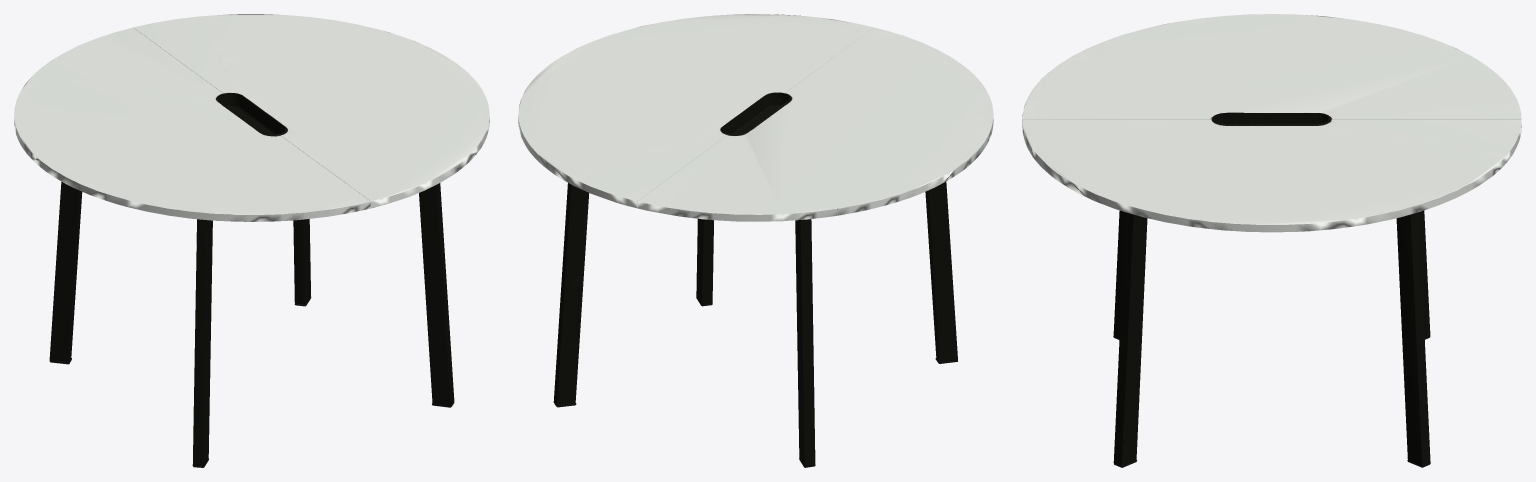
File: 105 - MITTZON - 會議桌, 圓形 白色黑色, 120x75 公分 IKEA 線上購物.glb
3 renders of one model, left to right at view 1: azimuth 30°, elevation 25°; view 2: azimuth 150°, elevation 25°; view 3: azimuth 270°, elevation 25°, orthographic. The views are drawn at different scales.
Visible parts, largest first — view 1: Mesh_0, Mesh_1; view 2: Mesh_0, Mesh_1; view 3: Mesh_0, Mesh_1.
Boxes of the visible parts, x1,y1,x2,y2 form: Mesh_0: (14, 14, 489, 221); Mesh_1: (49, 181, 454, 467); Mesh_0: (518, 14, 993, 221); Mesh_1: (553, 181, 957, 467); Mesh_0: (1022, 14, 1521, 232); Mesh_1: (1113, 210, 1430, 467).
Size of the model in its own units: 1.2 by 0.7499 by 1.2.
Materials: 2 (2 with a texture image).
